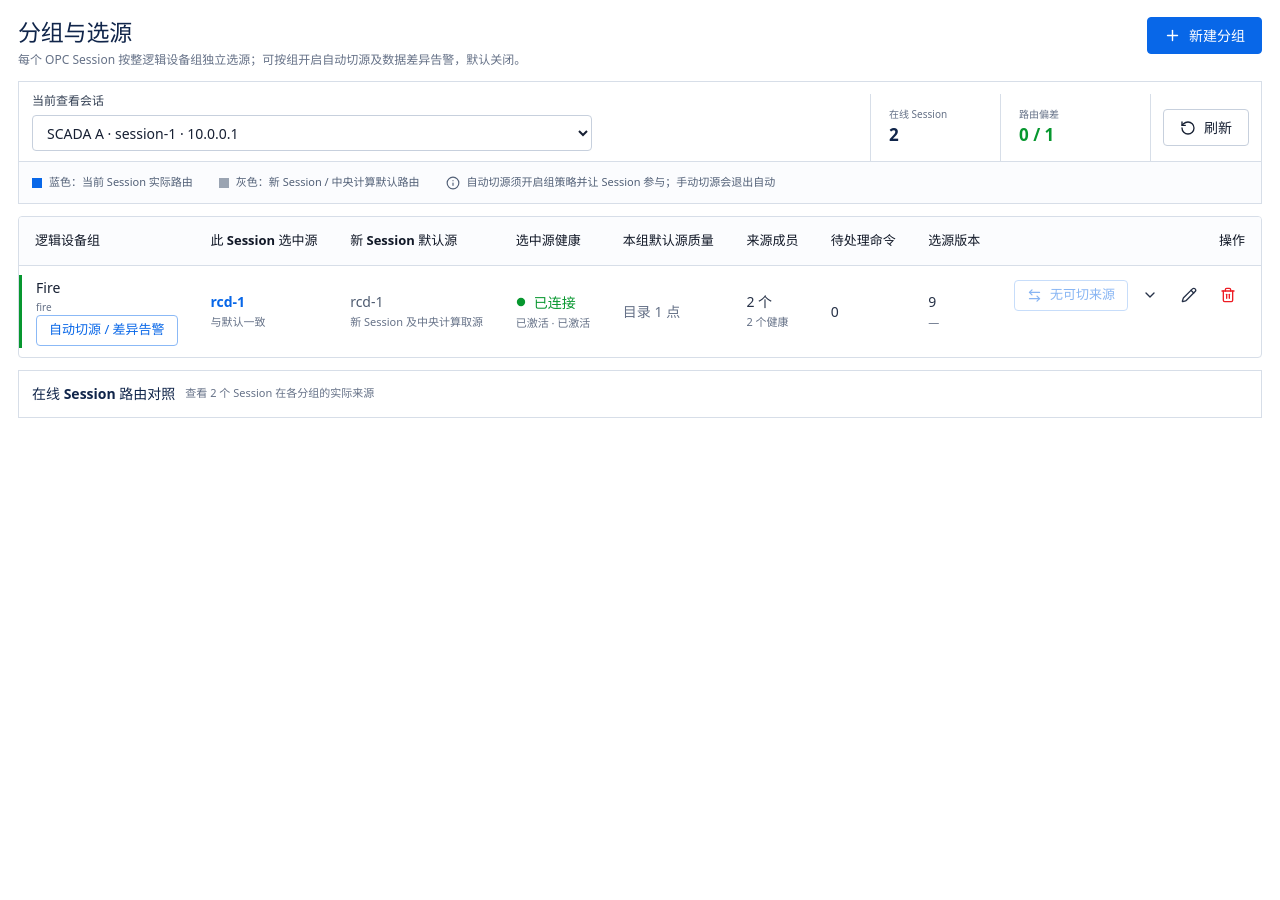
Test: one Session context across group controls › does not label a healthy source usable before its group directory is discovered
This screenshot has width=1280, height=900.
Click the button named "查看 fire" at (1150, 295), box x1=1133 y1=278 x2=1167 y2=312
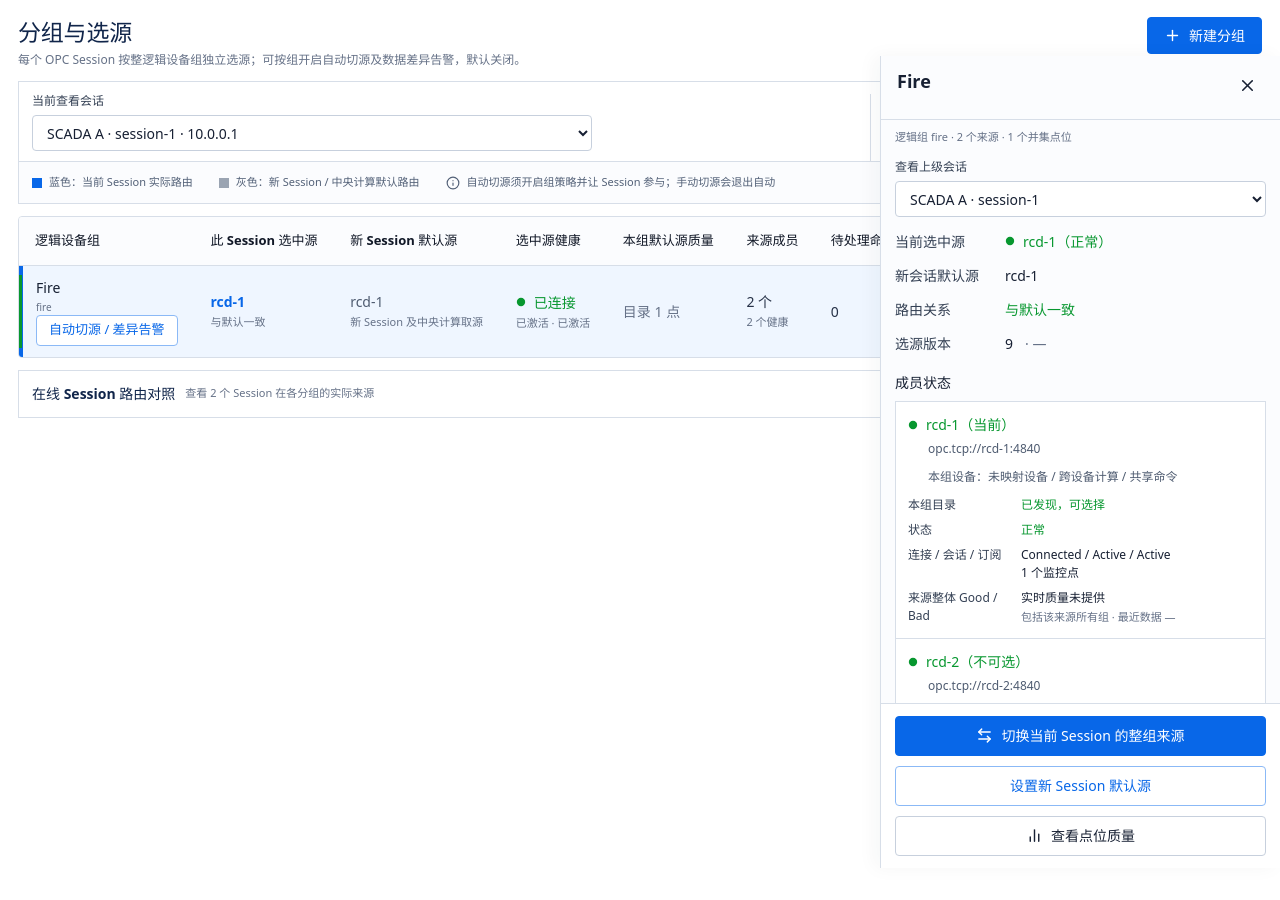
expect the text "rcd-2（不可选）" is shown: met, box x1=926 y1=651 x2=1029 y2=672
expect the text "未发现本组目录" is shown: met, box x1=1021 y1=733 x2=1105 y2=750
expect the element with class "is-open" is shown: met, box x1=880 y1=56 x2=1279 y2=868
